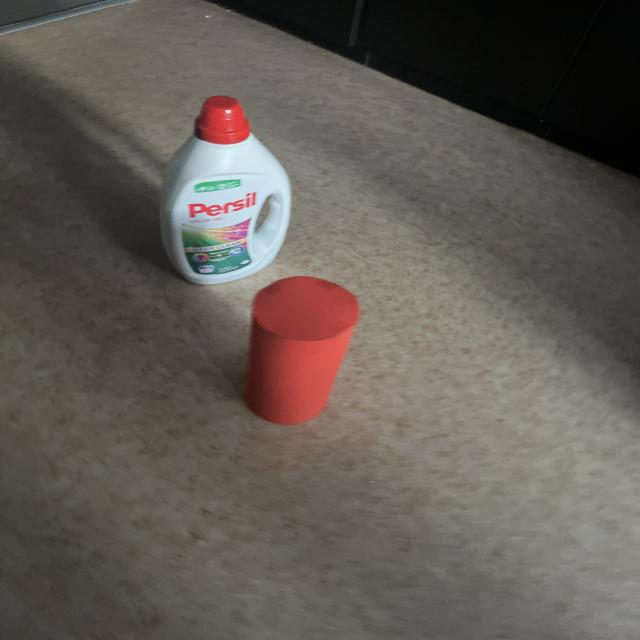przeszkoda: (246, 276, 359, 424)
